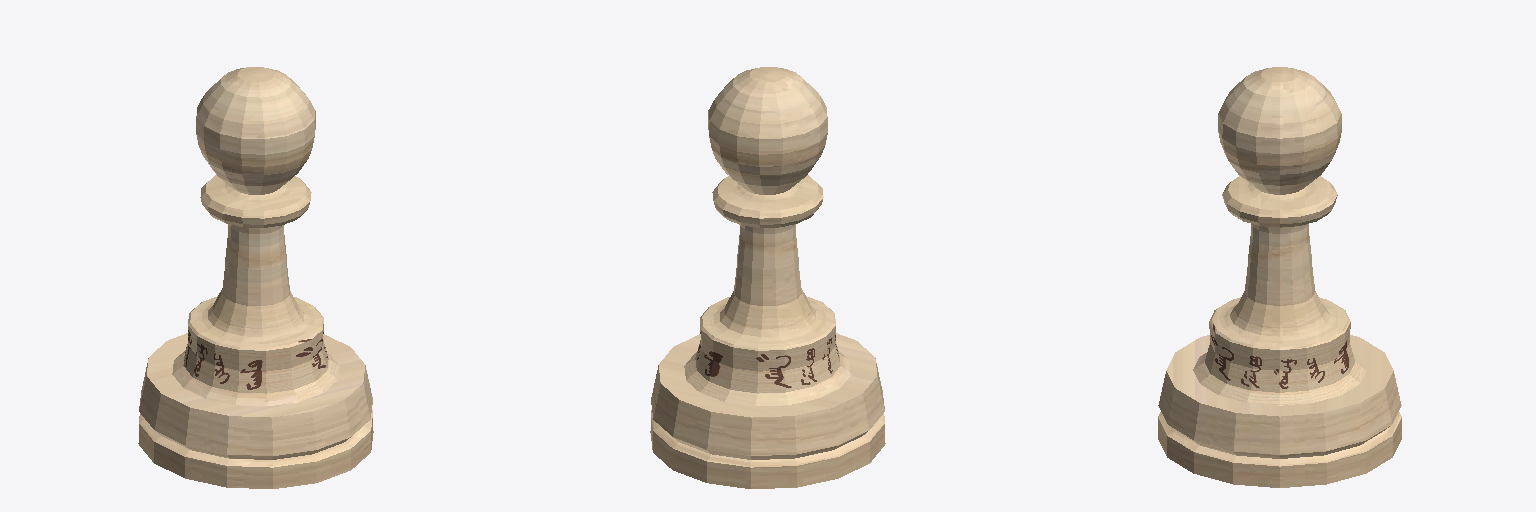
3 renders of one model, left to right at view 1: azimuth 30°, elevation 25°; view 2: azimuth 150°, elevation 25°; view 3: azimuth 270°, elevation 25°, orthographic.
Visible parts, largest first — view 1: Peon; view 2: Peon; view 3: Peon.
Boxes of the visible parts, x1=… form: Peon: x1=138, y1=67, x2=373, y2=488; Peon: x1=650, y1=67, x2=885, y2=488; Peon: x1=1158, y1=67, x2=1401, y2=487.
Size of the model in its own units: 0.3985 by 0.6847 by 0.4132.
2 materials, 2 textured.